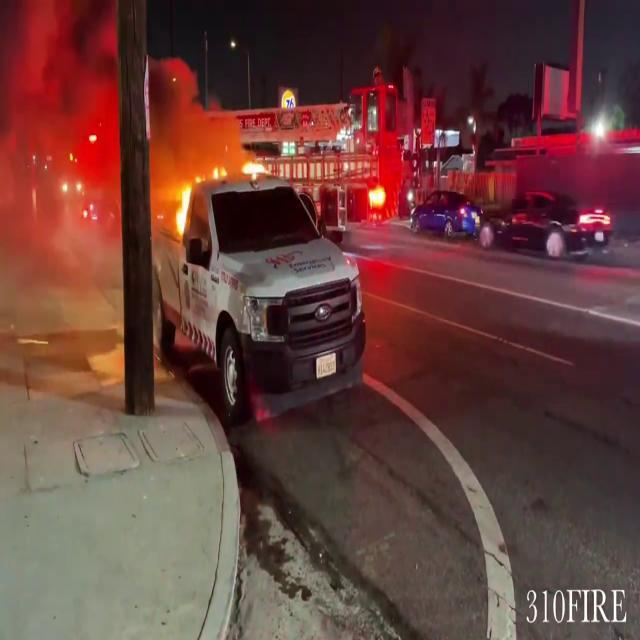Fire: (165, 172, 196, 235)
Smoke: (0, 0, 123, 392)
